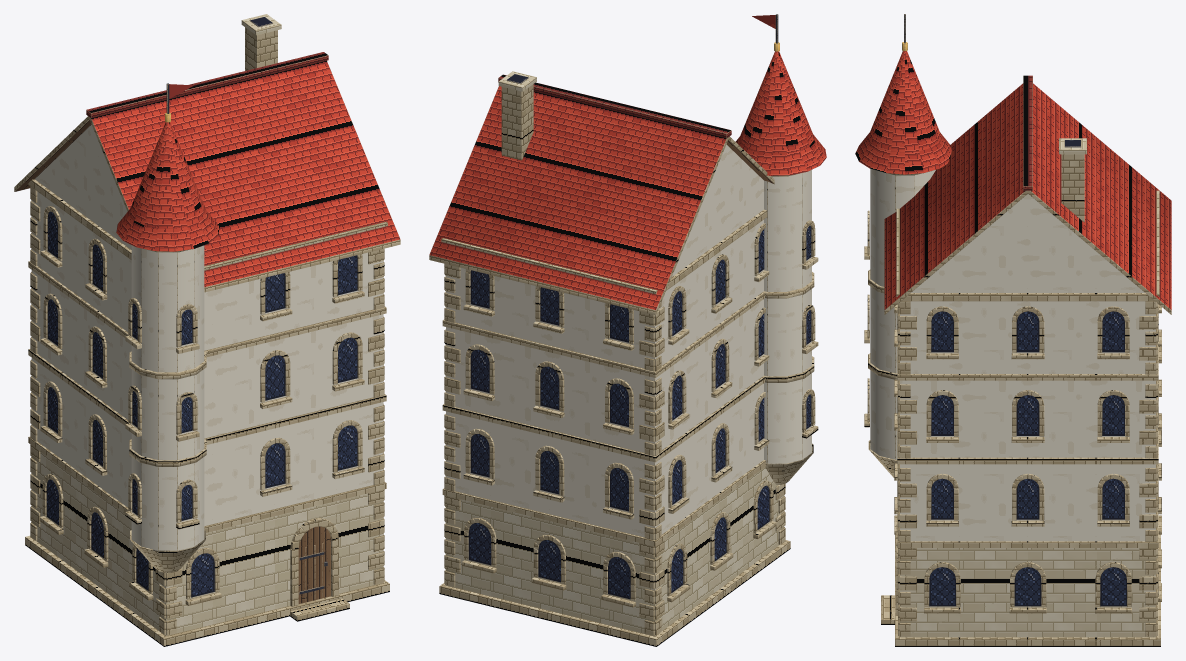
Rendered from medieval_house_7.glb.
3 views of the same model, side by side, from view 1: azimuth 30°, elevation 25°; view 2: azimuth 150°, elevation 25°; view 3: azimuth 270°, elevation 25° (orthographic). The views are drawn at different scales.
Parts seen in each view (by area): view 1: medieval_house_8; view 2: medieval_house_8; view 3: medieval_house_8.
Part boxes in pixels (x1,y1,x2,y2): medieval_house_8: (14, 14, 400, 646); medieval_house_8: (429, 14, 826, 646); medieval_house_8: (855, 14, 1171, 646).
Size of the model in its own units: 8.63 by 17.15 by 9.25.
Materials: 12 (12 with a texture image).
